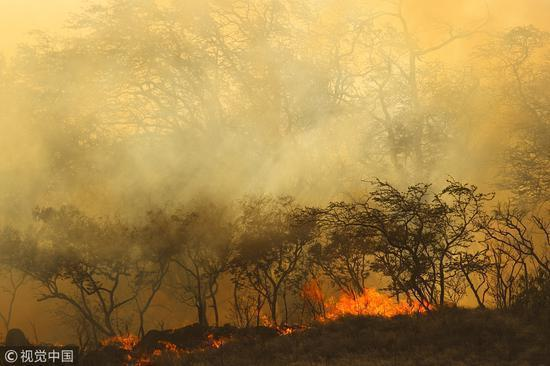fire: (311, 276, 434, 324), (253, 306, 293, 337), (104, 330, 140, 355), (202, 328, 227, 352), (157, 336, 183, 353)
